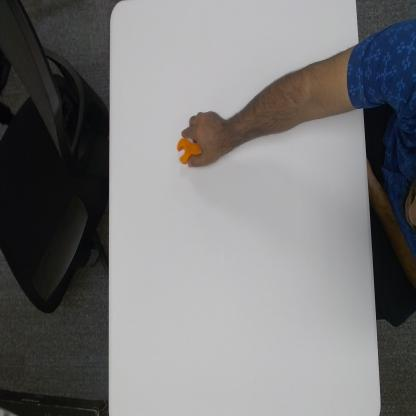Arm: (227, 37, 360, 151)
Hand: (184, 110, 226, 169)
Screwdriver: (174, 136, 202, 165)
